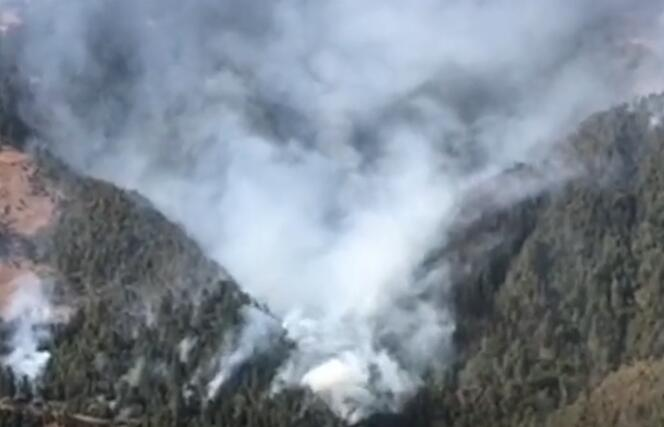yanwu: (5, 1, 642, 421)
